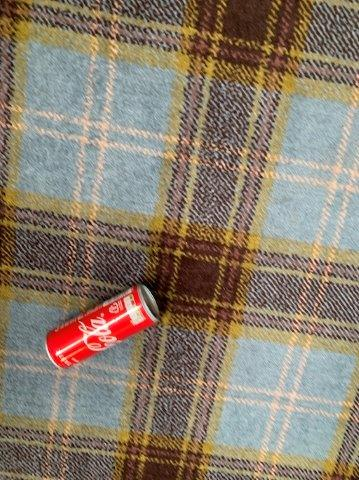kaleng: (46, 285, 160, 367)
